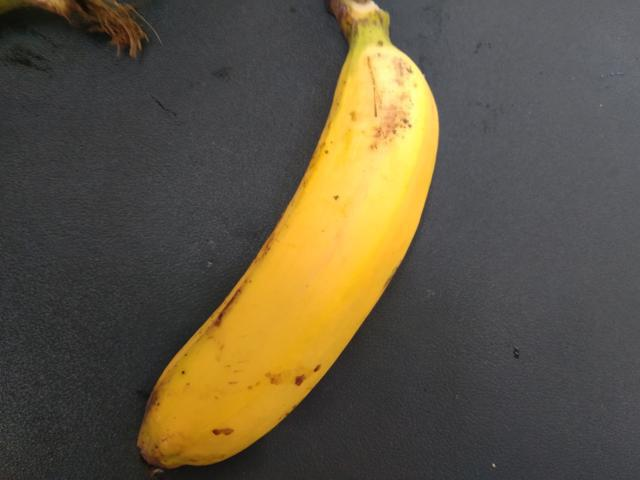ripe: (118, 28, 470, 479)
